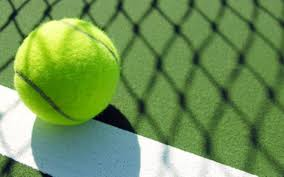tennis_ball: (13, 16, 122, 126)
